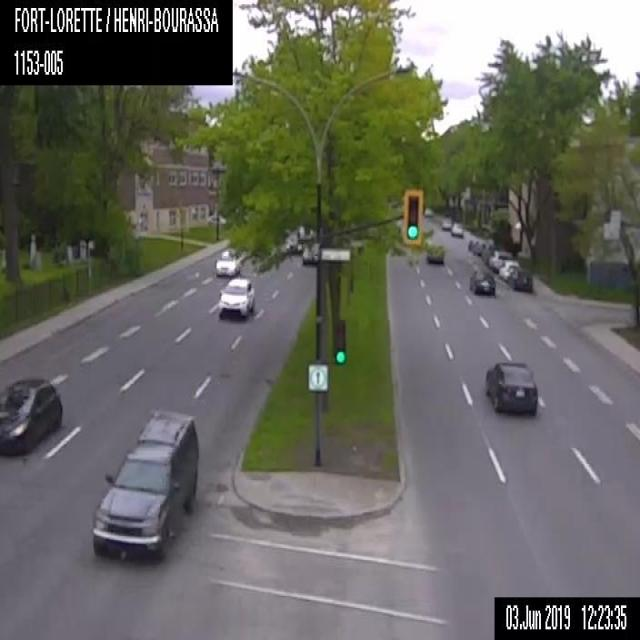vehicle: (91, 407, 201, 565), (0, 373, 63, 459), (484, 359, 538, 416), (212, 276, 255, 320), (466, 265, 494, 296), (215, 246, 241, 274), (508, 266, 532, 290), (488, 249, 512, 270), (498, 259, 520, 280), (426, 244, 444, 262), (302, 244, 315, 267), (449, 219, 464, 237), (481, 244, 496, 262), (422, 204, 434, 217), (442, 216, 452, 229), (467, 239, 477, 251), (472, 243, 481, 255)
